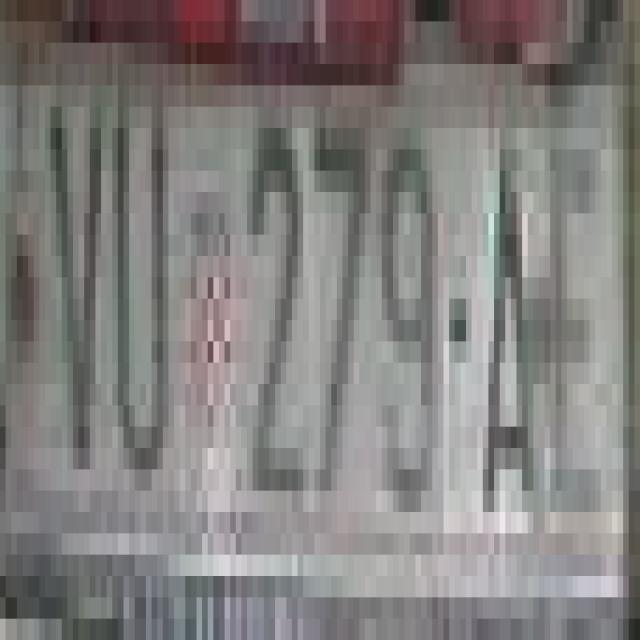2: (242, 107, 304, 490)
7: (314, 85, 370, 491)
9: (382, 107, 432, 469)
A: (483, 150, 533, 534)
E: (550, 128, 623, 512)
U: (106, 86, 168, 470)
V: (45, 86, 95, 470)
